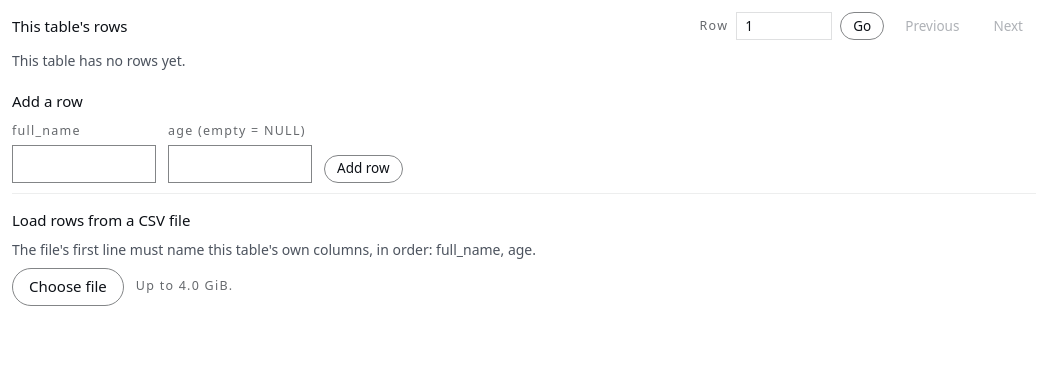
Test: the table builder's own data panel › refuses to submit a row that leaves a required column empty, without asking the server
This screenshot has width=1048, height=377.
Expected: the text "This table has no rows yet." is shown, [12,51,186,70]
Click the button "Add row". click: (363, 169)
box: [324,155,403,183]
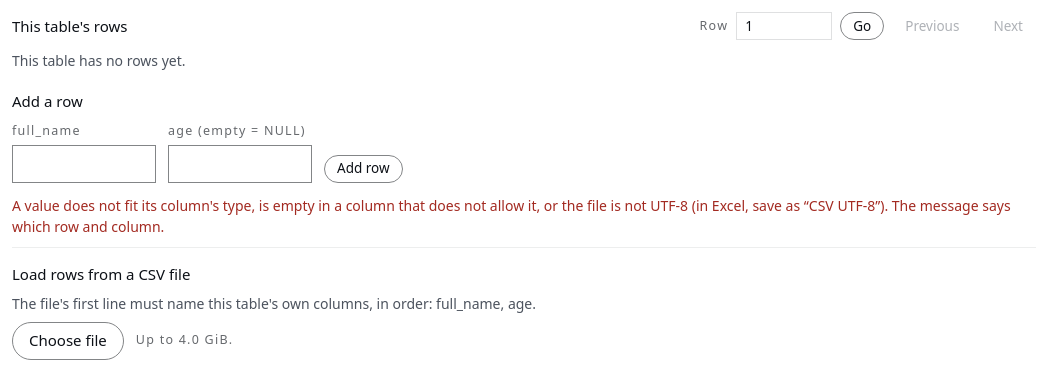
Expected: the text "A value does not fit its column's type, is empty in a column that does not allow it, or the file is not UTF-8 (in Excel," is shown, [12,196,1011,236]
